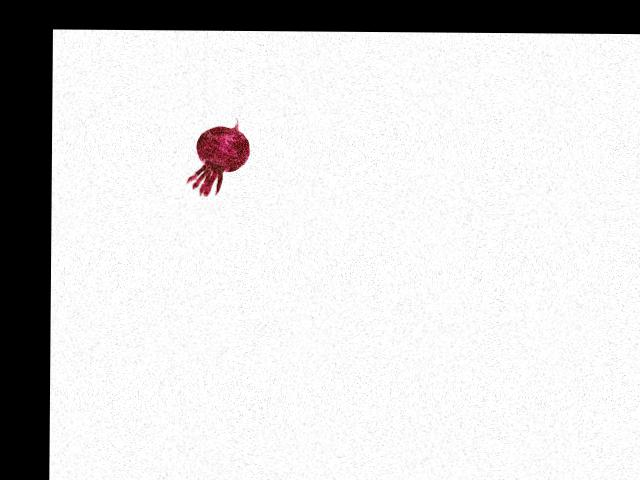beet: (186, 116, 250, 196)
